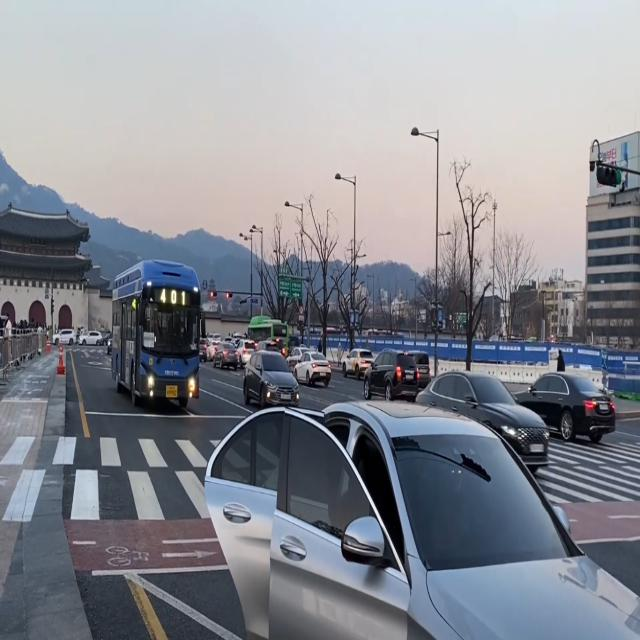bus-number: (160, 285, 186, 307)
